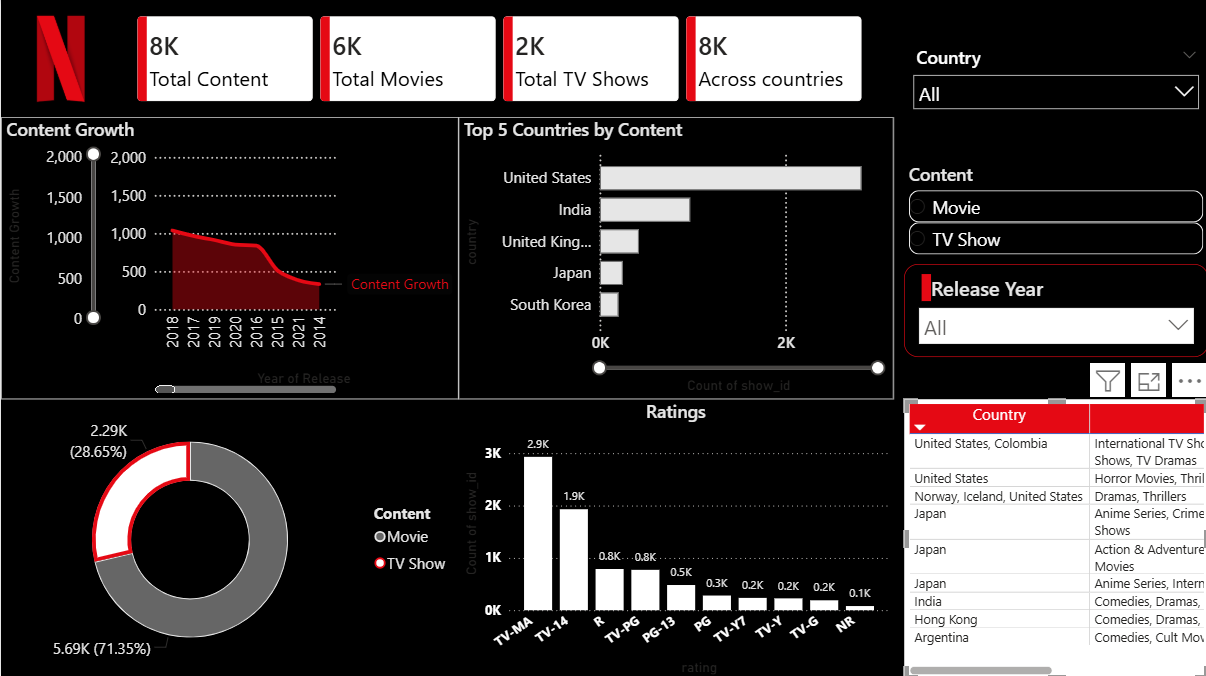

Layout of this report page (visuals, bound fields, positions):
{"tool":"powerbi","page":{"name":"Page 1","canvas":[1280,720],"ordinal":0},"visuals":[{"type":"image","box":[0,0,126.6,124.7],"z":0},{"type":"cardVisual","fields":{"Data":["Count(netflix_titles.show_id)","netflix_titles.Total Movies","netflix_titles.Total TV Shows","CountNonNull(netflix_titles.country)"]},"box":[126.6,0,803.2,124.7],"z":1000},{"type":"slicer","fields":{"Values":["netflix_titles.release_year"]},"box":[957.5,279.9,322.9,98.6],"z":2000},{"type":"areaChart","title":"Content Growth","fields":{"Category":["netflix_titles.release_year"],"Y":["CountNonNull(netflix_titles.show_id)"]},"box":[0,124.1,485.1,299],"z":5000},{"type":"barChart","title":"Top 5 Countries by Content","fields":{"Category":["netflix_titles.country"],"Y":["CountNonNull(netflix_titles.show_id)"]},"box":[485.1,124.1,461.3,299],"z":6000},{"type":"donutChart","fields":{"Category":["netflix_titles.type"],"Y":["CountNonNull(netflix_titles.show_id)"]},"box":[0,423.1,485.1,297.4],"z":7000},{"type":"clusteredColumnChart","title":"Ratings","fields":{"Category":["netflix_titles.rating"],"Y":["CountNonNull(netflix_titles.show_id)"]},"box":[485,423,461,297],"z":8000},{"type":"tableEx","fields":{"Values":["netflix_titles.country","netflix_titles.listed_in","netflix_titles.title"]},"box":[957.5,423.1,322.9,297.4],"z":9000},{"type":"listSlicer","fields":{"Values":["netflix_titles.type"]},"box":[957.1,172.2,322.9,108.2],"z":9001},{"type":"slicer","fields":{"Values":["netflix_titles.country"]},"box":[957.5,42.9,322.9,92.3],"z":9002}]}

Visuals, with their boxes in screenshot pixels (x1, y1, x2, y2), scaled from the page's 1280x720 canvas onto the 1206x676 screenshot:
image: {"left": 0, "top": 0, "right": 119, "bottom": 117}
cardVisual - Count(netflix_titles.show_id) x netflix_titles.Total Movies: {"left": 119, "top": 0, "right": 876, "bottom": 117}
slicer - netflix_titles.release_year: {"left": 902, "top": 263, "right": 1205, "bottom": 355}
"Content Growth" areaChart: {"left": 0, "top": 117, "right": 457, "bottom": 397}
"Top 5 Countries by Content" barChart: {"left": 457, "top": 117, "right": 892, "bottom": 397}
donutChart - netflix_titles.type x CountNonNull(netflix_titles.show_id): {"left": 0, "top": 397, "right": 457, "bottom": 675}
"Ratings" clusteredColumnChart: {"left": 457, "top": 397, "right": 891, "bottom": 675}
tableEx - netflix_titles.country x netflix_titles.listed_in: {"left": 902, "top": 397, "right": 1205, "bottom": 675}
listSlicer - netflix_titles.type: {"left": 902, "top": 162, "right": 1205, "bottom": 263}
slicer - netflix_titles.country: {"left": 902, "top": 40, "right": 1205, "bottom": 127}
